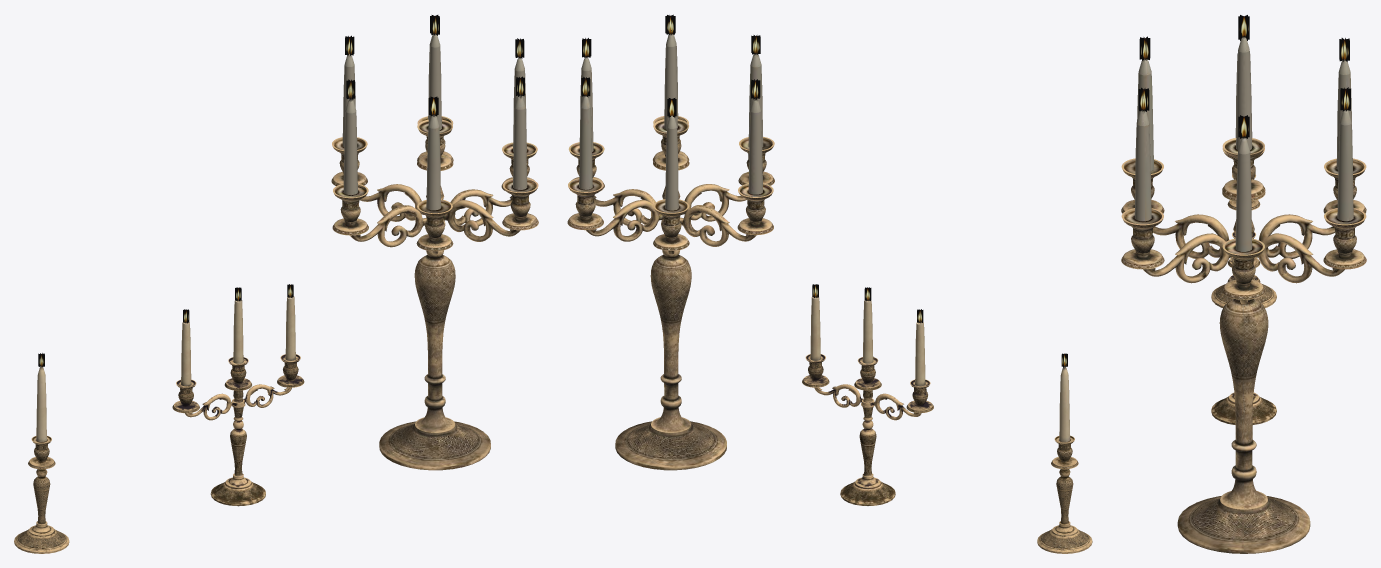
File: candleholders.glb
3 views of the same model, side by side, from view 1: azimuth 30°, elevation 25°; view 2: azimuth 150°, elevation 25°; view 3: azimuth 270°, elevation 25° (orthographic). The views are drawn at different scales.
Parts seen in each view (by area): view 1: brass_candleholder_03, brass_candleholder_02, brass_candleholder_01; view 2: brass_candleholder_03, brass_candleholder_02, brass_candleholder_01; view 3: brass_candleholder_03, brass_candleholder_02, brass_candleholder_01.
Part boxes in pixels (x1,y1,x2,y2): brass_candleholder_03: [38, 15, 538, 470]; brass_candleholder_02: [172, 295, 304, 506]; brass_candleholder_01: [14, 366, 69, 553]; brass_candleholder_03: [567, 14, 1067, 470]; brass_candleholder_02: [802, 296, 933, 505]; brass_candleholder_01: [1037, 366, 1092, 553]; brass_candleholder_03: [1121, 15, 1366, 553]; brass_candleholder_02: [1211, 232, 1276, 424]; brass_candleholder_01: [1211, 174, 1276, 307].
Bounding box in the file's own units: 1.05 × 0.8353 × 0.3646.
5 materials, 5 textured.
